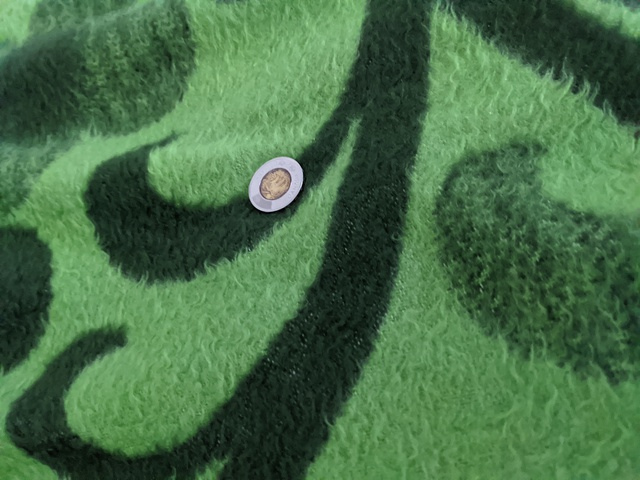twonie: (236, 147, 308, 217)
